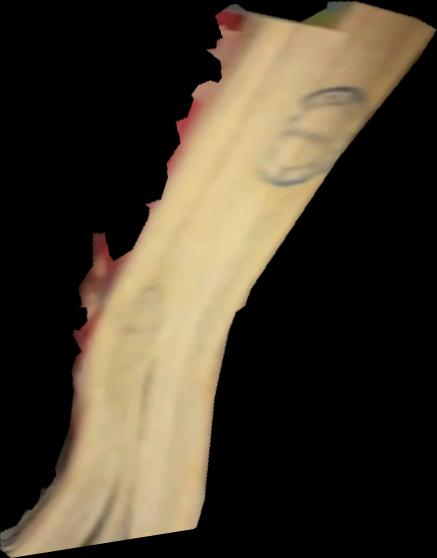backward: (1, 1, 437, 558)
